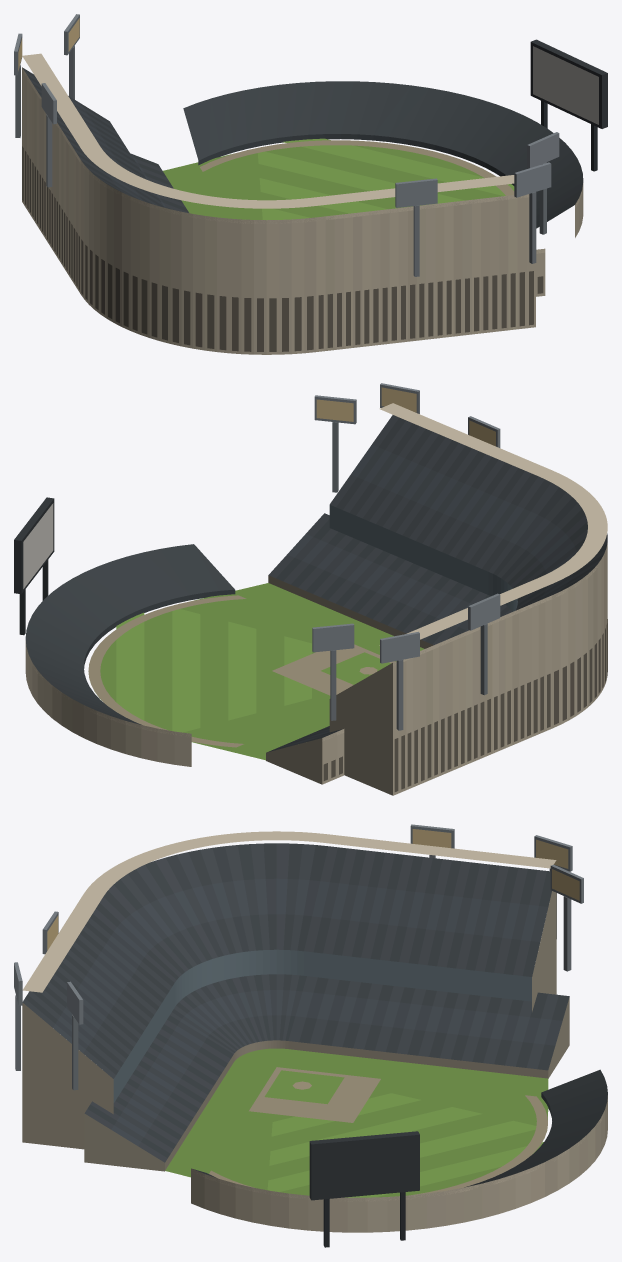
The picture shows the model from 3 angles, top to bottom: view 1: azimuth 30°, elevation 25°; view 2: azimuth 150°, elevation 25°; view 3: azimuth 270°, elevation 25°; orthographic projection. The views are drawn at different scales.
Visible parts, largest first — view 1: bronx-ballpark-lod0; view 2: bronx-ballpark-lod0; view 3: bronx-ballpark-lod0.
Part boxes in pixels (x1,y1,x2,y2): bronx-ballpark-lod0: (14,14,607,354); bronx-ballpark-lod0: (14,383,607,795); bronx-ballpark-lod0: (14,824,607,1247).
Size of the model in its own units: 261 by 76.79 by 246.
